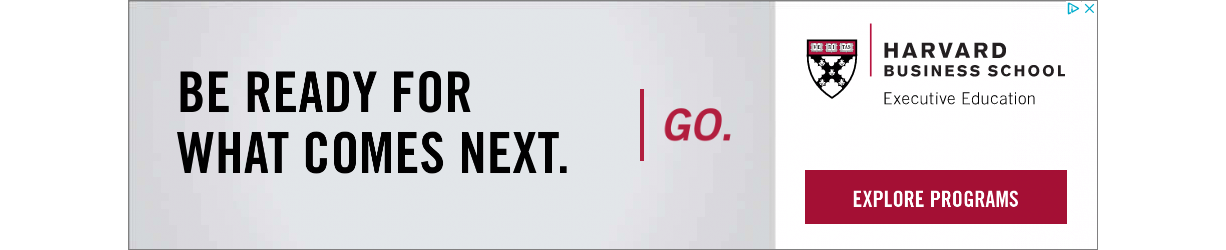fake_button: (791, 159, 1078, 232), (1044, 2, 1106, 16)
